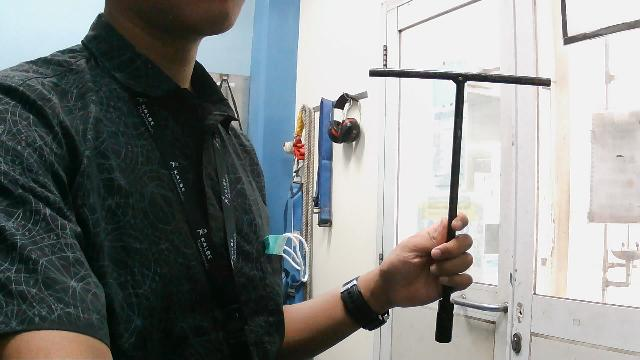kunci_t: (362, 64, 554, 347)
